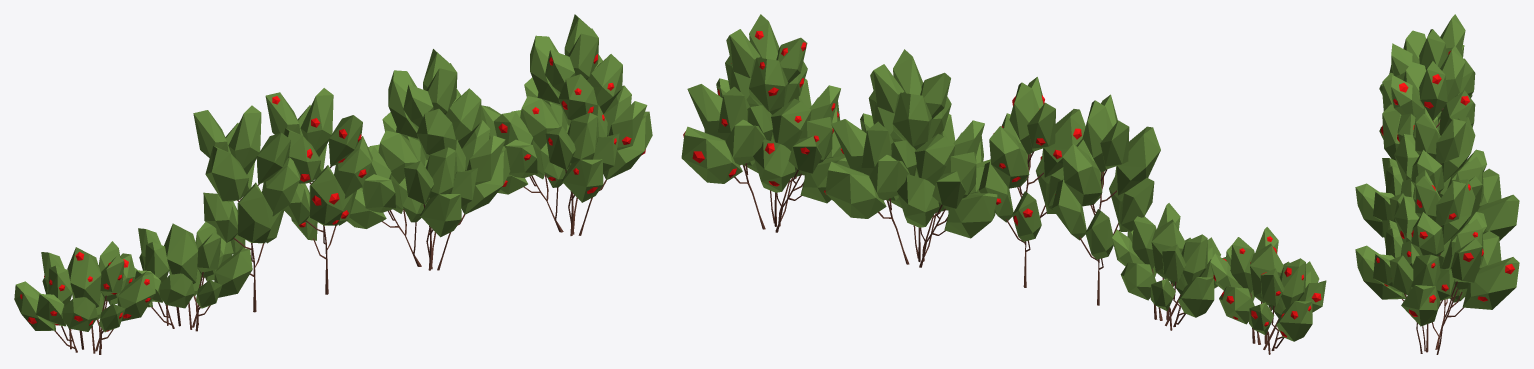
File: bosjes.fbx
3 views of the same model, side by side, from view 1: azimuth 30°, elevation 25°; view 2: azimuth 150°, elevation 25°; view 3: azimuth 270°, elevation 25° (orthographic). The views are drawn at different scales.
Parts seen in each view (by area): view 1: mountain_ash_with_berries_2, mountain_ash_2, mountain_ash, mountain_ash_with_berries, mountain_ash_with_berries_3, mountain_ash_3; view 2: mountain_ash_2, mountain_ash_with_berries_2, mountain_ash, mountain_ash_with_berries, mountain_ash_with_berries_3, mountain_ash_3; view 3: mountain_ash_with_berries_2, mountain_ash_2, mountain_ash_with_berries, mountain_ash.
Boxes of the visible parts, x1=… form: mountain_ash_with_berries_2: x1=480, y1=14, x2=652, y2=235; mountain_ash_2: x1=328, y1=49, x2=510, y2=270; mountain_ash: x1=193, y1=105, x2=300, y2=312; mountain_ash_with_berries: x1=265, y1=88, x2=372, y2=294; mountain_ash_with_berries_3: x1=14, y1=241, x2=155, y2=354; mountain_ash_3: x1=134, y1=221, x2=252, y2=331; mountain_ash_2: x1=825, y1=49, x2=997, y2=267; mountain_ash_with_berries_2: x1=681, y1=14, x2=849, y2=232; mountain_ash: x1=1052, y1=94, x2=1160, y2=305; mountain_ash_with_berries: x1=979, y1=77, x2=1085, y2=287; mountain_ash_with_berries_3: x1=1210, y1=227, x2=1326, y2=354; mountain_ash_3: x1=1112, y1=203, x2=1226, y2=330; mountain_ash_with_berries_2: x1=1355, y1=170, x2=1519, y2=354; mountain_ash_2: x1=1355, y1=108, x2=1519, y2=240; mountain_ash_with_berries: x1=1380, y1=46, x2=1475, y2=160; mountain_ash: x1=1382, y1=14, x2=1475, y2=132.
Size of the model in its own units: 1297 by 411 by 333.
